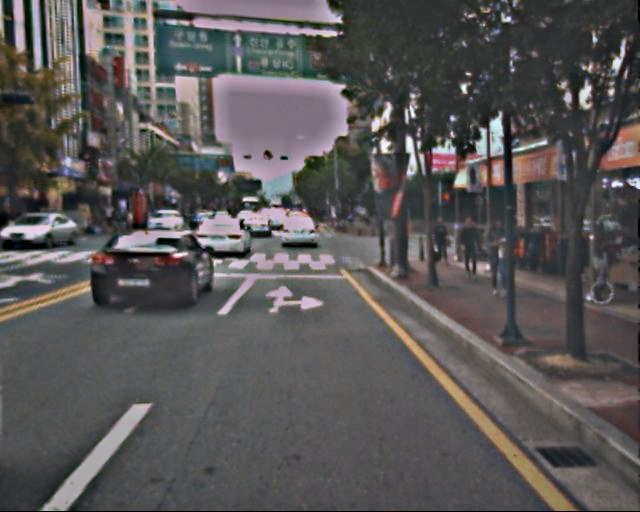person: (483, 219, 516, 300), (458, 216, 484, 279), (431, 215, 453, 267)
